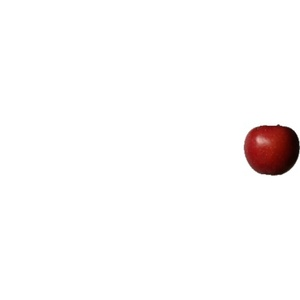maçã braeburn: (242, 121, 297, 181)
